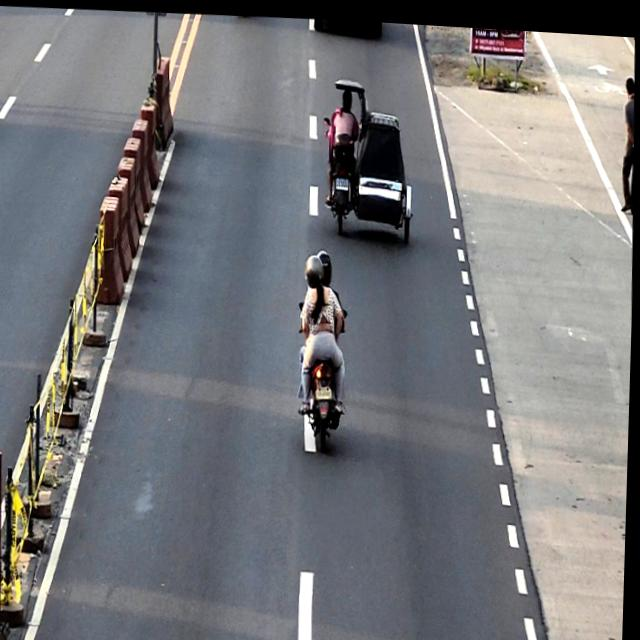License-Plate: (317, 382, 334, 396), (337, 172, 349, 186)
Motorcycle: (296, 292, 352, 450)
Tricycle: (321, 74, 418, 241)
